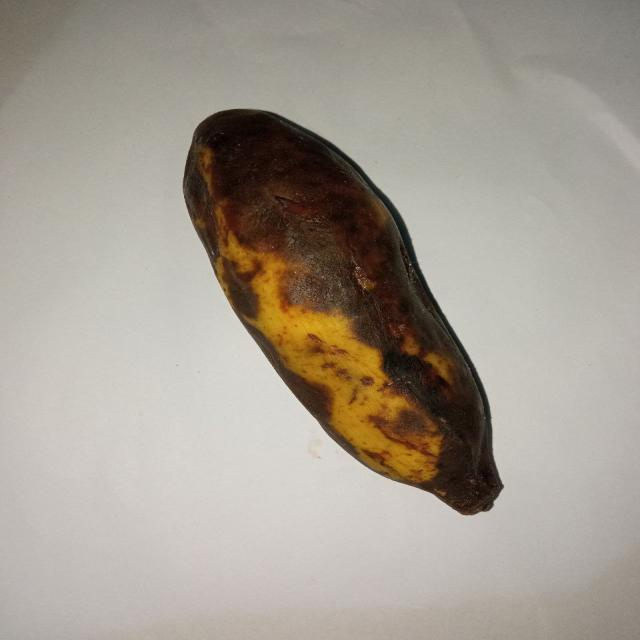rotten_banana: (177, 94, 503, 522)
